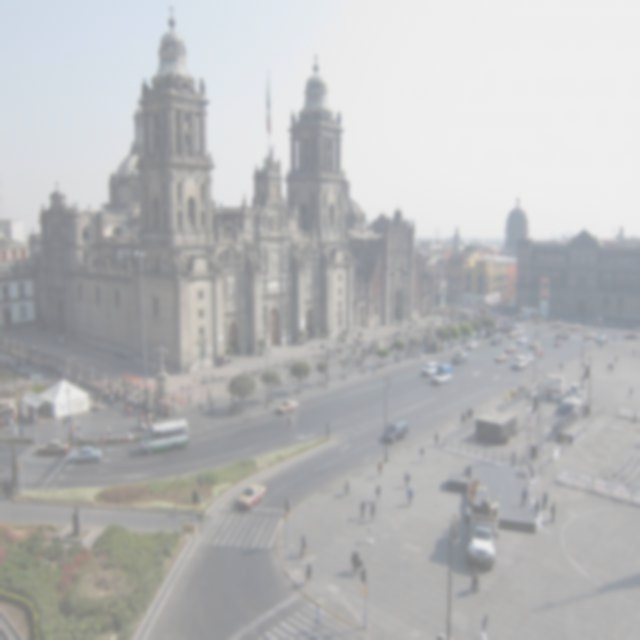pessoa: (338, 332, 453, 376), (422, 300, 524, 334), (90, 382, 156, 433), (526, 305, 638, 329), (39, 356, 72, 384), (314, 604, 323, 634), (304, 562, 314, 586), (227, 395, 239, 415), (26, 408, 38, 427), (470, 568, 478, 594), (519, 484, 528, 506), (215, 354, 228, 368), (299, 535, 307, 557), (406, 486, 414, 508), (540, 490, 548, 510), (474, 566, 480, 592), (355, 551, 363, 570), (4, 479, 11, 500), (526, 464, 534, 482), (374, 484, 382, 502), (604, 334, 616, 346), (404, 470, 411, 490), (550, 501, 556, 524), (482, 614, 488, 636), (360, 498, 366, 520), (74, 418, 82, 434), (534, 498, 540, 518), (370, 501, 376, 521), (3, 474, 9, 494), (302, 328, 310, 343), (170, 400, 177, 417), (74, 372, 82, 386), (351, 550, 356, 572), (9, 478, 14, 500), (418, 446, 424, 464), (210, 398, 216, 416), (631, 410, 638, 424), (62, 414, 69, 428), (466, 406, 472, 422), (18, 423, 24, 439), (198, 396, 204, 412), (344, 478, 349, 496), (378, 460, 383, 478), (158, 403, 164, 418), (2, 411, 8, 426), (8, 410, 14, 425), (632, 347, 640, 358), (511, 450, 516, 467), (434, 431, 439, 447), (287, 412, 292, 428), (461, 412, 466, 427), (124, 430, 130, 442), (70, 425, 74, 442), (559, 361, 564, 373), (14, 419, 18, 434), (461, 342, 466, 354), (207, 390, 211, 404), (12, 421, 16, 434), (629, 386, 633, 398), (471, 408, 474, 422), (606, 362, 610, 372), (610, 362, 614, 372), (614, 356, 618, 366), (520, 385, 524, 393), (557, 339, 560, 347), (524, 385, 527, 392), (518, 384, 520, 394)
